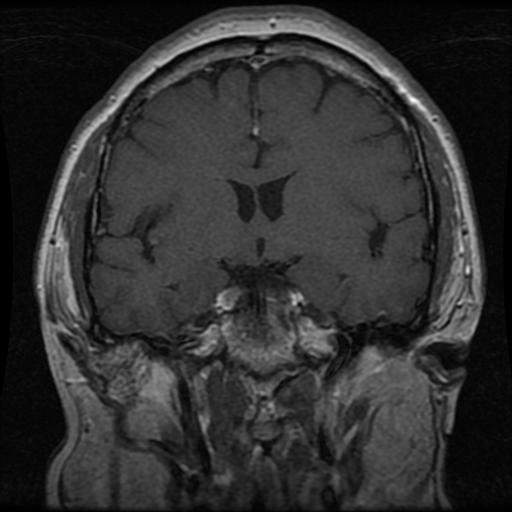Pituirity_tumour: (217, 284, 240, 310)
